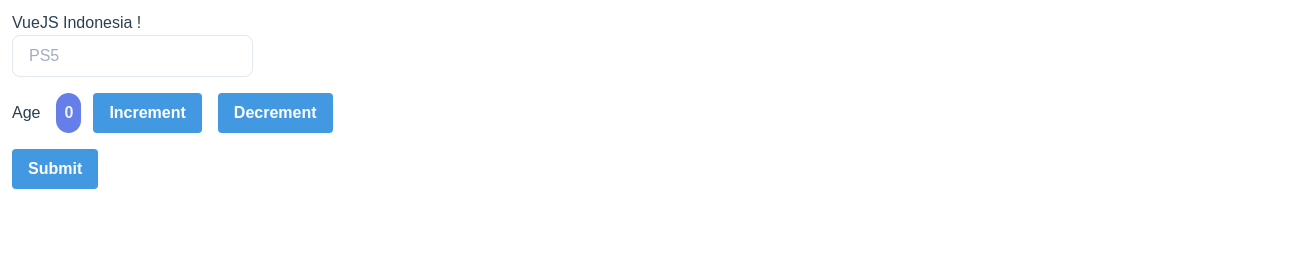
Scenario: Form.vue › should show error section if submit button is clicked while condition is not met (age < 5)
Step 1. Type "Playstation 5" into the field with placeholder "PS5" → (132, 56), box [12,35,253,77]
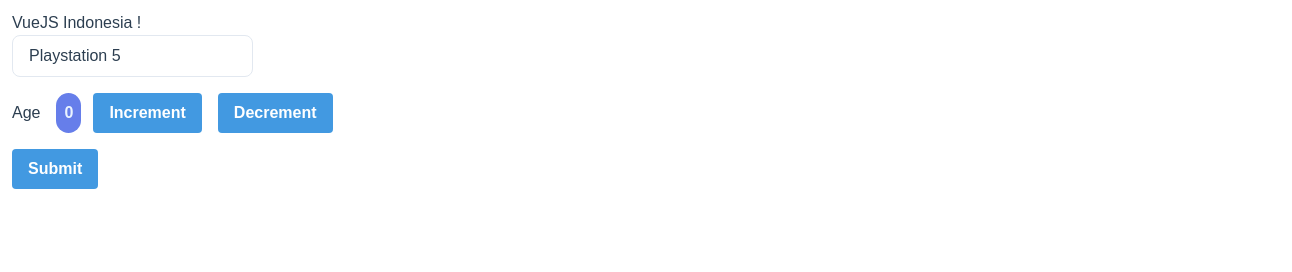
Step 2. Click the button "Submit" → (55, 169), box [12,149,98,189]
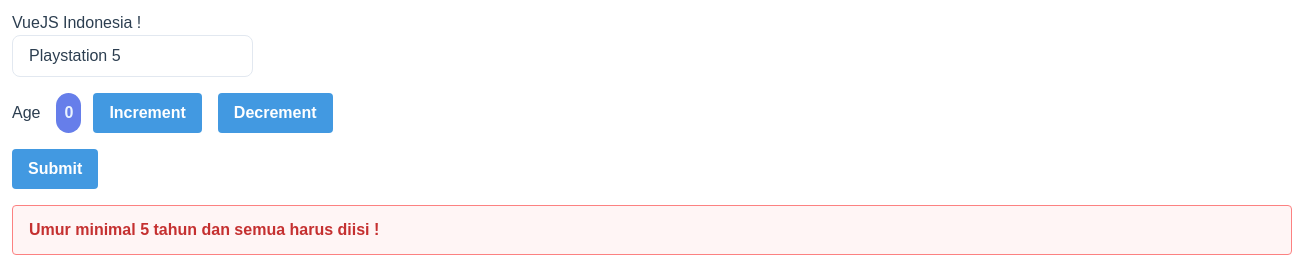
Result: the message "Umur minimal 5 tahun dan semua harus diisi !" is shown at [12,205,1291,255]
